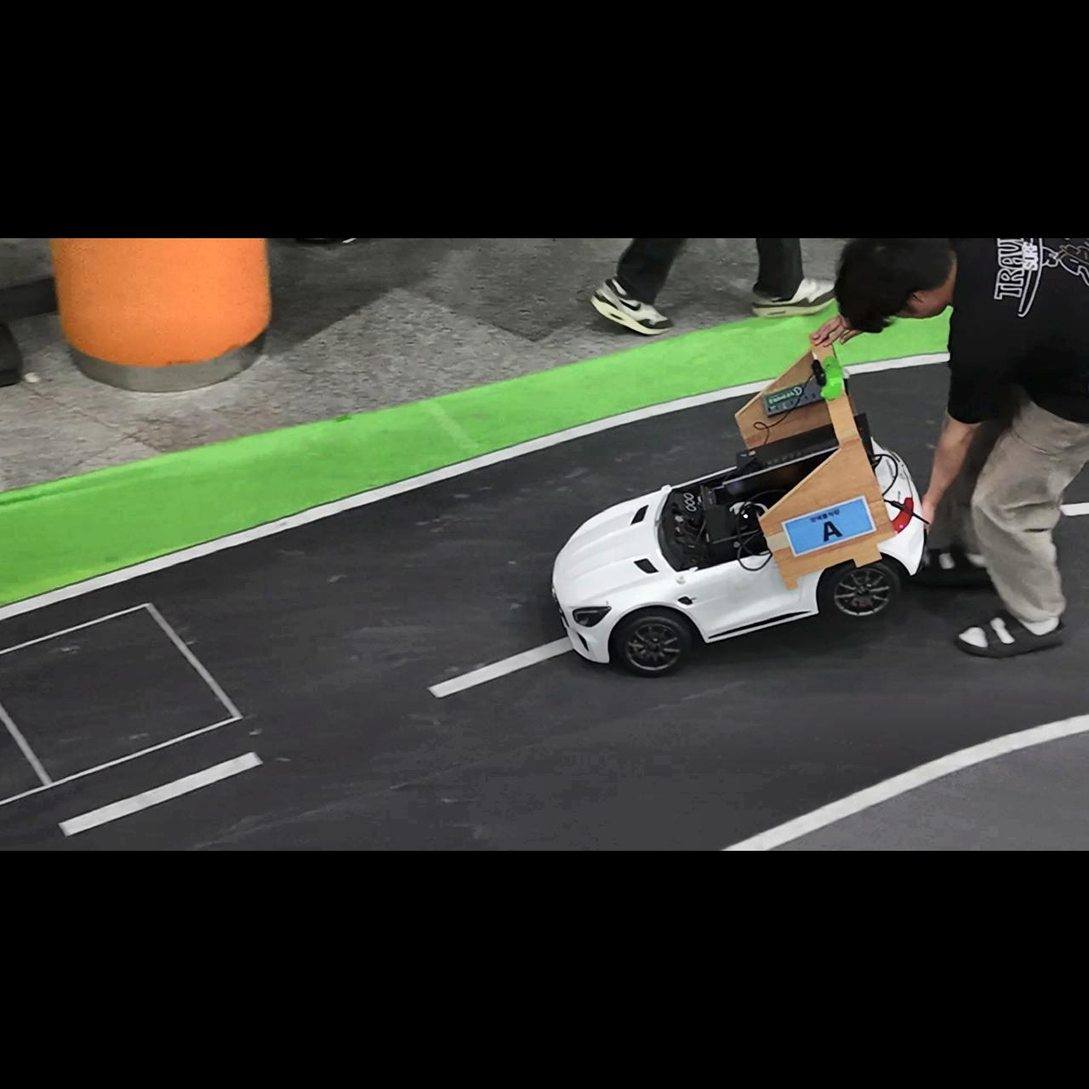broken_line: (57, 752, 263, 837), (427, 637, 574, 698), (1059, 502, 1088, 516)
